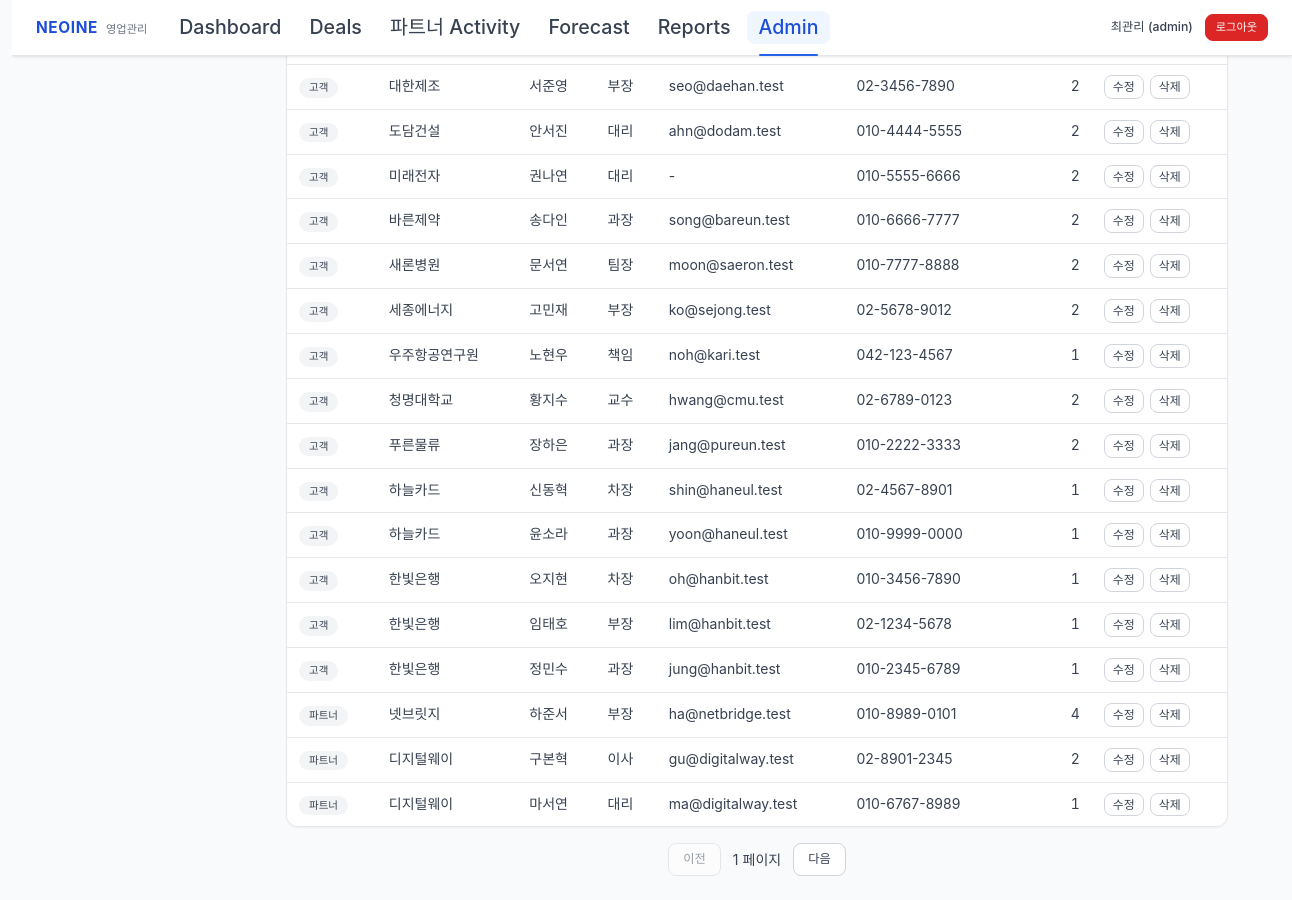
Test: contacts 목록 (T-ADMIN-07) › pages through all 24 contacts
(page scrolled)
Click the button "다음" at (819,860), box [793,844,846,876]
(page scrolled)
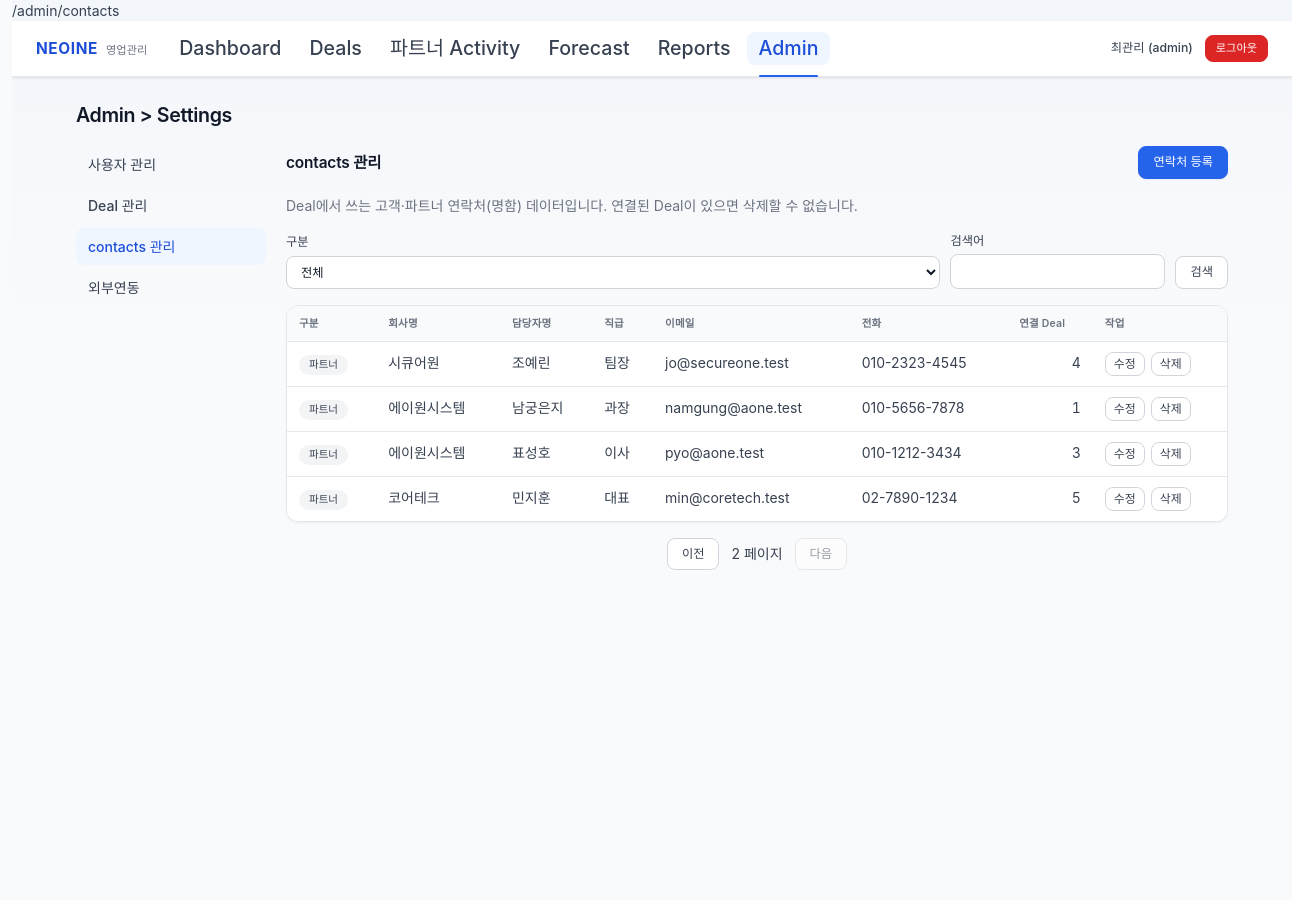
Expected: the button "다음" is disabled, [795,538,847,570]
